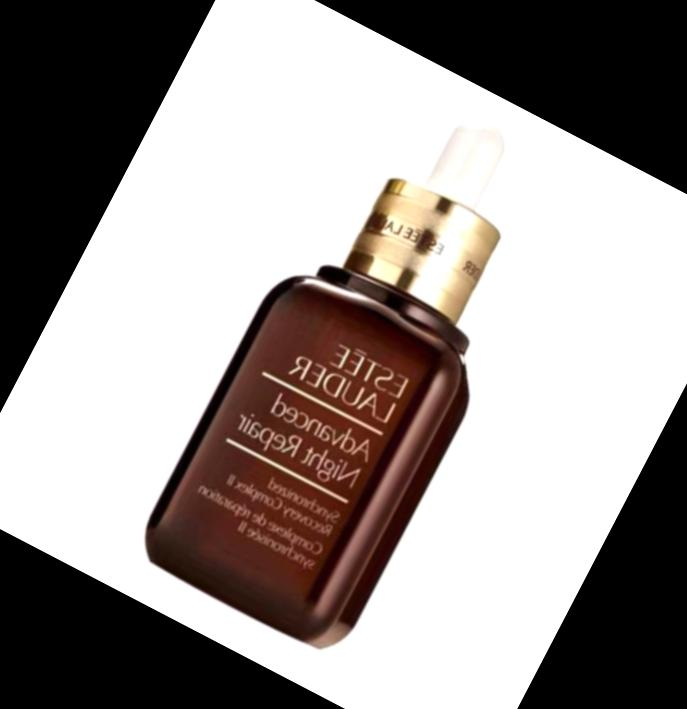cosmetic: (132, 58, 584, 648)
